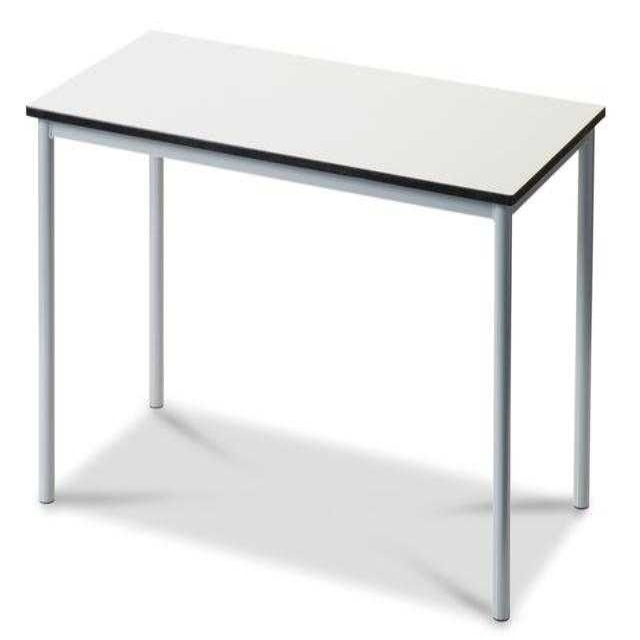obstacle: (27, 32, 604, 620)
